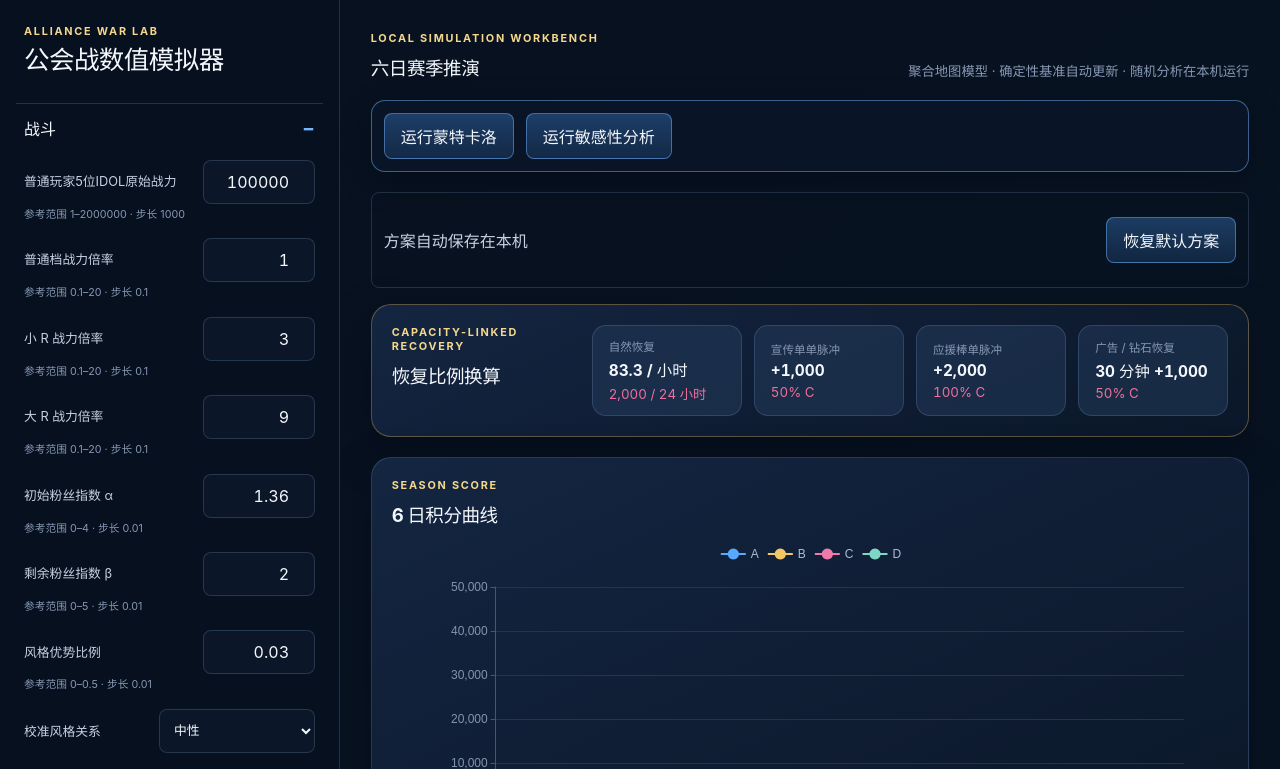
Test: App integration › synchronizes battle inputs in both directions and keeps results on applied until success
Step 1. Replace the text in the number field labelled "小 R 战力倍率" with "4" → (259, 339), box [203,317,315,361]
(page scrolled)
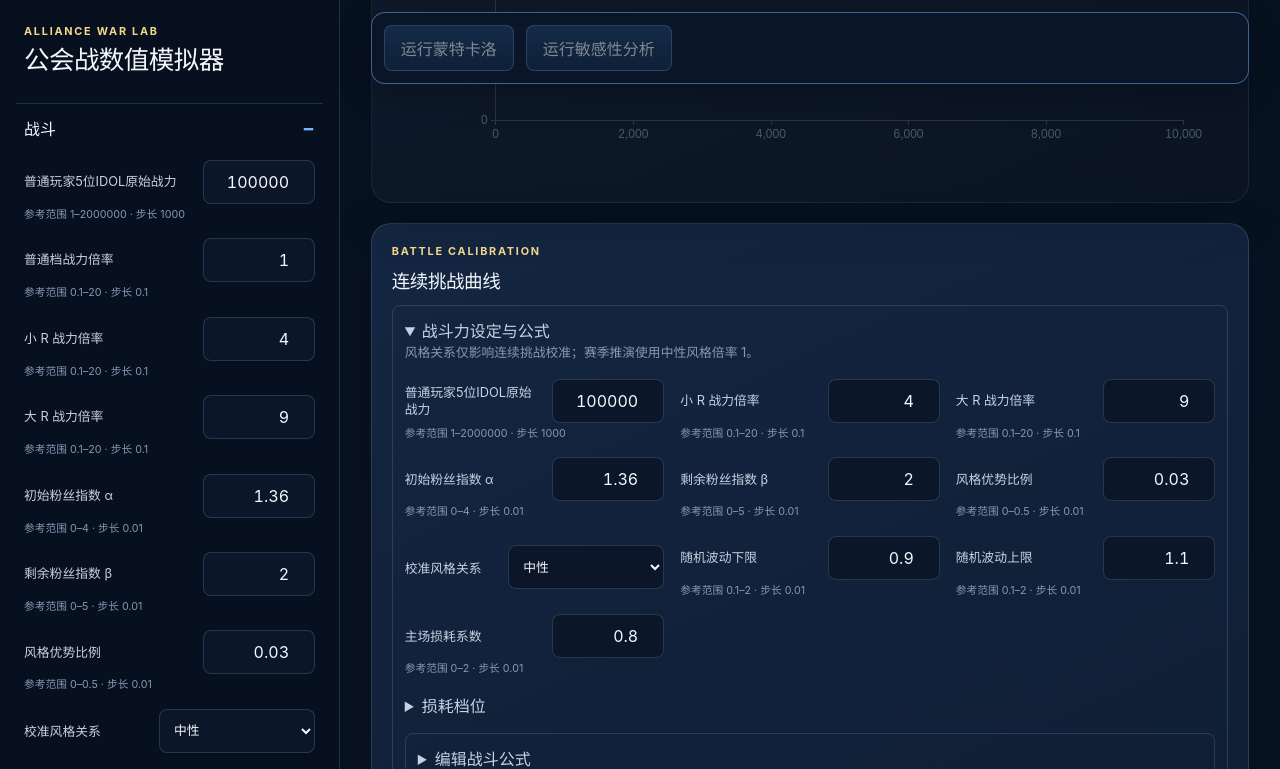
Check: the number field labelled "小 R 战力倍率" below "风格关系仅影响连续挑战校准；赛季推演使用中性风格倍率 1。" holds "4"
Step 2. Replace the text in the number field labelled "小 R 战力倍率" below "风格关系仅影响连续挑战校准；赛季推演使用中性风格倍率 1。" with "5" → (884, 401), box [828,379,940,423]
(page scrolled)
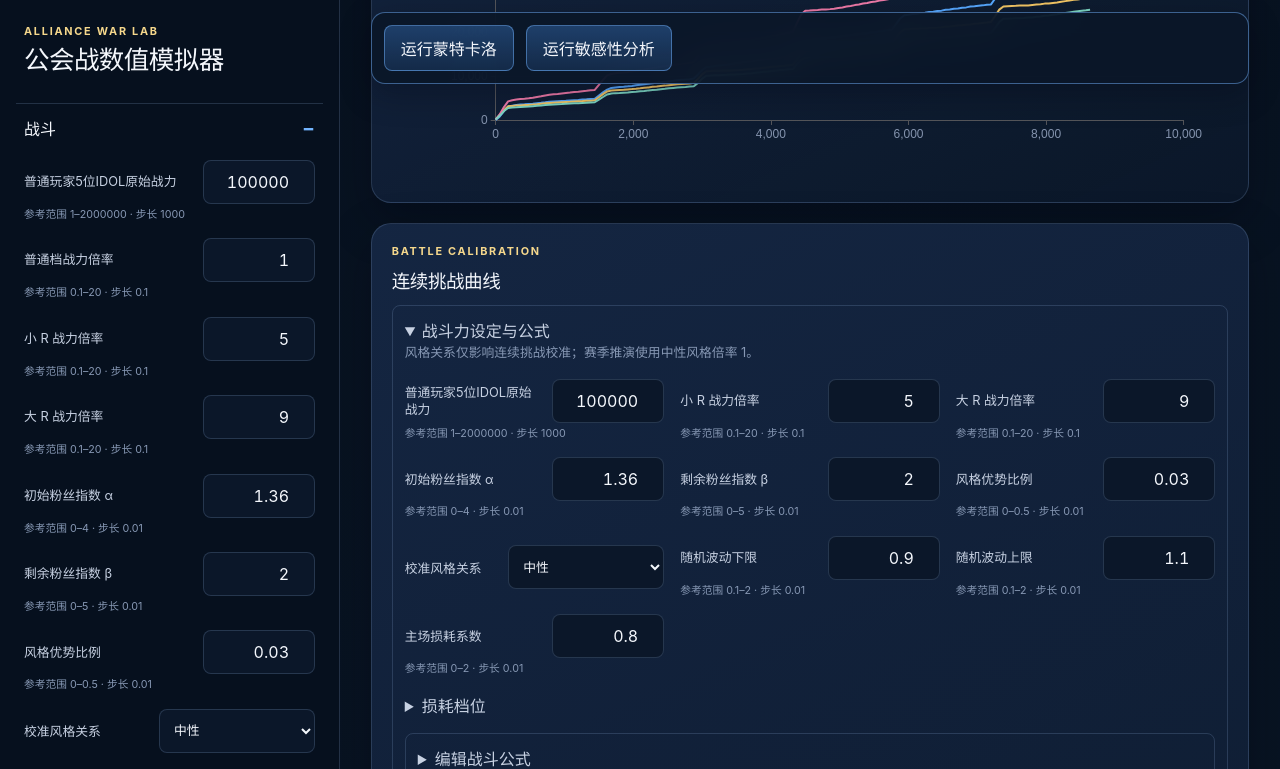
Check: the number field labelled "小 R 战力倍率" below "普通档战力倍率" holds "5", box [203,317,315,361]
